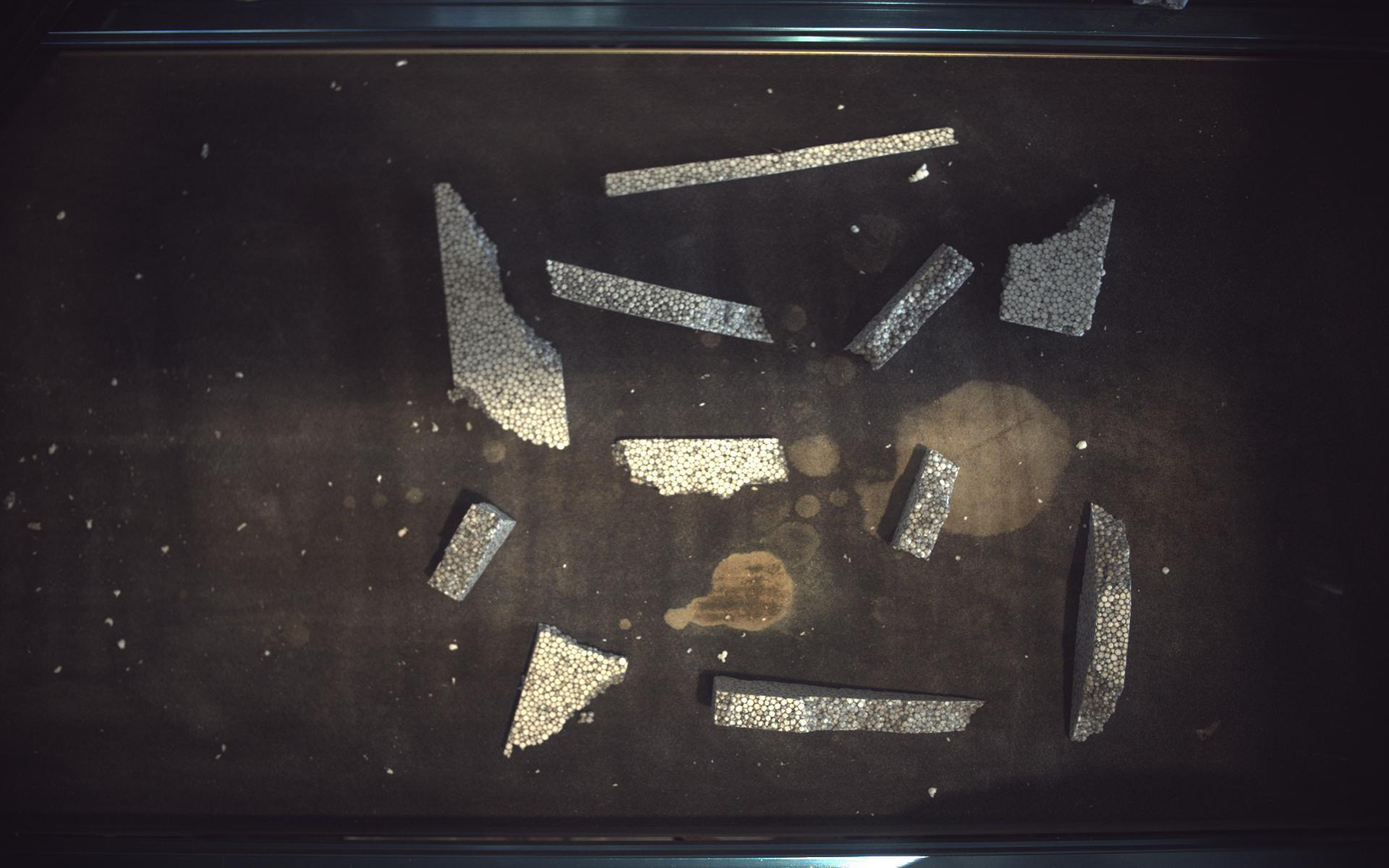foam: (435, 182, 570, 449), (606, 126, 959, 196), (548, 259, 774, 343), (504, 625, 628, 759), (1002, 195, 1118, 336), (849, 244, 977, 370), (715, 677, 986, 735), (1072, 503, 1134, 743), (613, 439, 789, 498), (428, 503, 517, 602), (893, 449, 961, 560)
